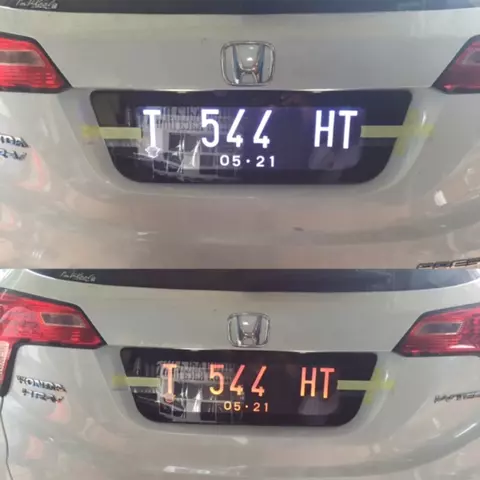plate: (136, 106, 362, 169), (151, 354, 340, 420)
